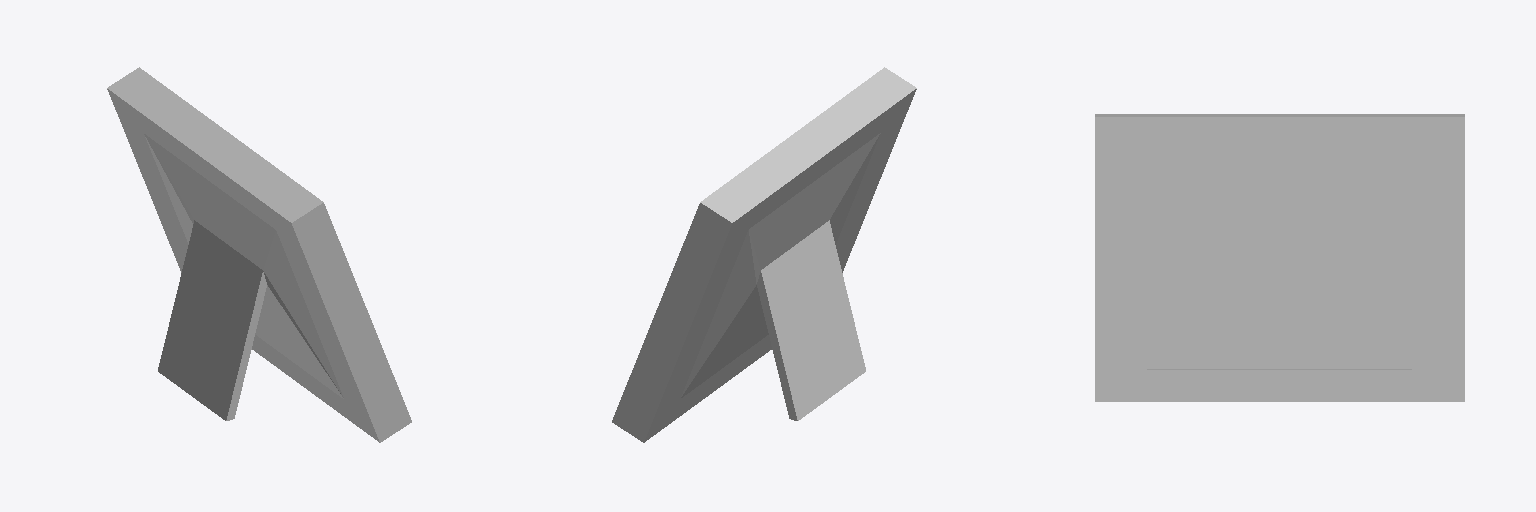
Rendered from pictureframe2.obj.
The picture shows the model from 3 angles: view 1: azimuth 30°, elevation 25°; view 2: azimuth 150°, elevation 25°; view 3: azimuth 270°, elevation 25°; orthographic projection.
Parts seen in each view (by area): view 1: pCube6; view 2: pCube6; view 3: pCube6.
Boxes of the visible parts, <box> form: pCube6: <box>107,67,411,442</box>; pCube6: <box>612,67,916,442</box>; pCube6: <box>1095,114,1464,401</box>.
Size of the model in its own units: 0.3221 by 0.6104 by 0.803.